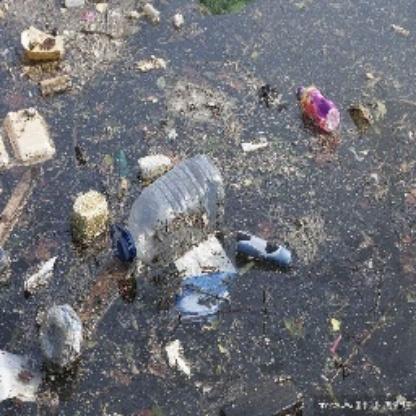bottle: (114, 154, 227, 266), (296, 83, 342, 133)
